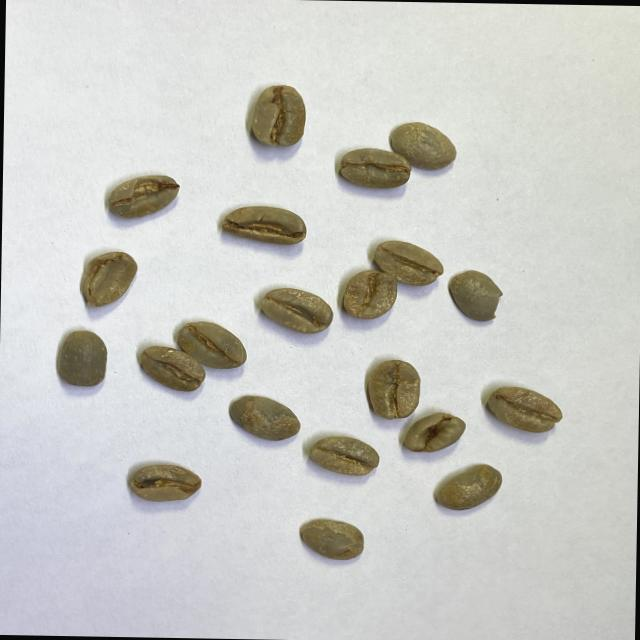bad: (221, 200, 306, 250), (250, 80, 305, 150), (80, 248, 139, 307), (106, 173, 181, 219), (126, 461, 204, 504), (402, 408, 466, 456), (448, 268, 503, 322)
good: (430, 462, 506, 512), (486, 385, 562, 434), (256, 286, 333, 334), (226, 394, 301, 443), (292, 516, 371, 562), (176, 320, 248, 370), (390, 120, 459, 172), (336, 146, 411, 192), (374, 239, 444, 287), (140, 344, 208, 392), (56, 328, 109, 388), (368, 359, 421, 419), (310, 436, 380, 478), (344, 268, 398, 320)
